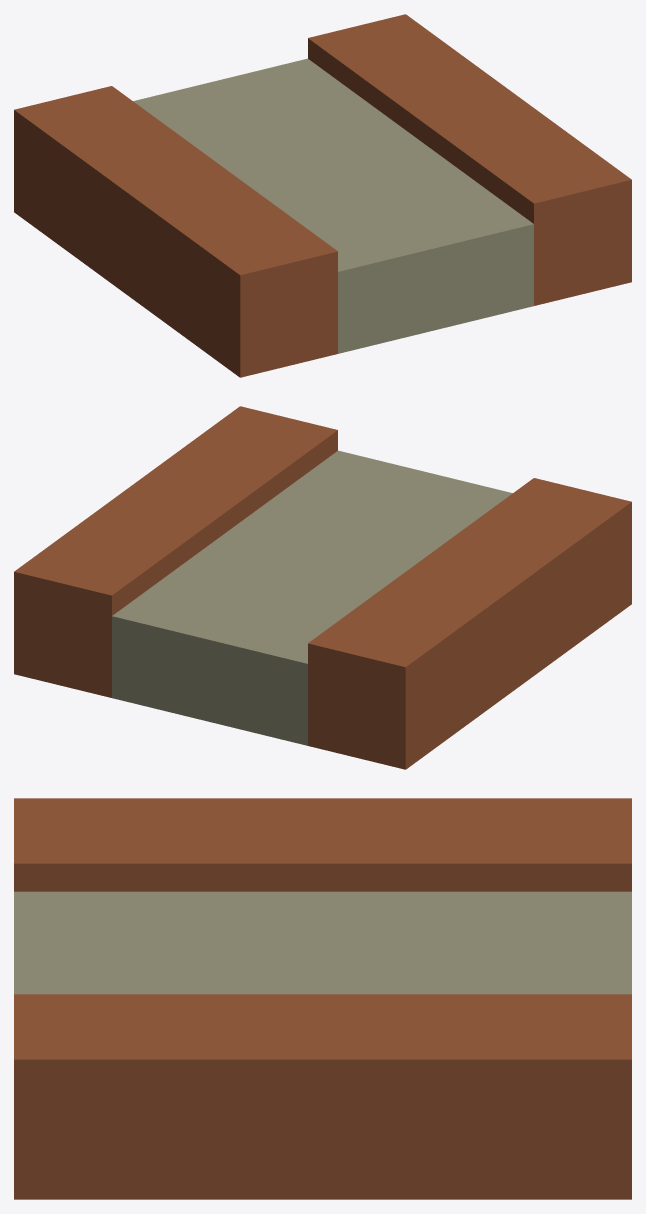
The model's file is Floor-Outdoor-4x4x1-Path-Narrow-Straight.FBX.
3 views of the same model, one above another, from view 1: azimuth 30°, elevation 25°; view 2: azimuth 150°, elevation 25°; view 3: azimuth 270°, elevation 25° (orthographic). The views are drawn at different scales.
Visible parts, largest first — view 1: Floor-Outdoor-4x4x1-Path-Narrow-Straight; view 2: Floor-Outdoor-4x4x1-Path-Narrow-Straight; view 3: Floor-Outdoor-4x4x1-Path-Narrow-Straight.
Part boxes in pixels (x1=…): Floor-Outdoor-4x4x1-Path-Narrow-Straight: x1=14, y1=14, x2=631, y2=377; Floor-Outdoor-4x4x1-Path-Narrow-Straight: x1=14, y1=406, x2=631, y2=769; Floor-Outdoor-4x4x1-Path-Narrow-Straight: x1=14, y1=798, x2=631, y2=1199.
Bounding box in the file's own units: 40 × 40 × 10.
